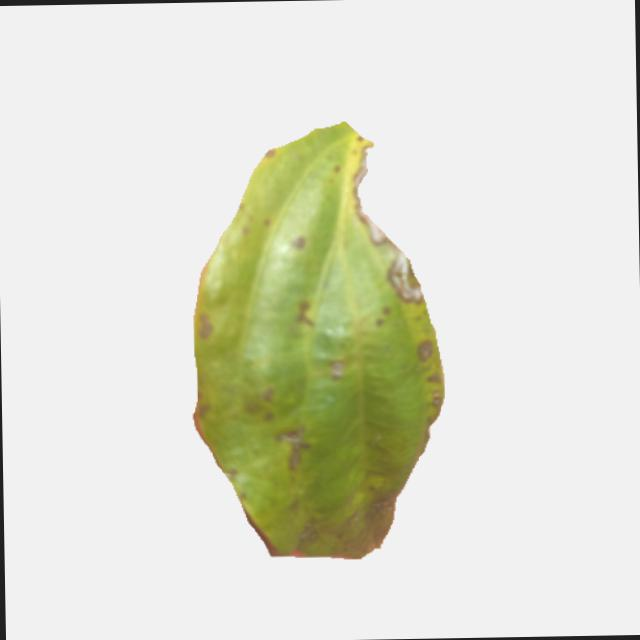yellow-mottle-virus: (168, 120, 465, 560)
